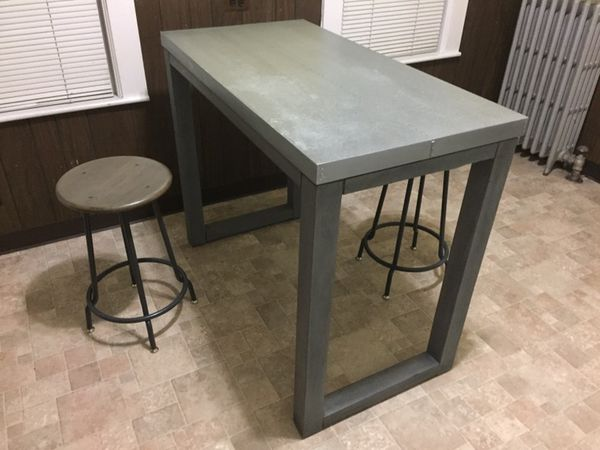chair: (46, 148, 207, 358), (355, 126, 459, 313)
table: (147, 18, 537, 446)
